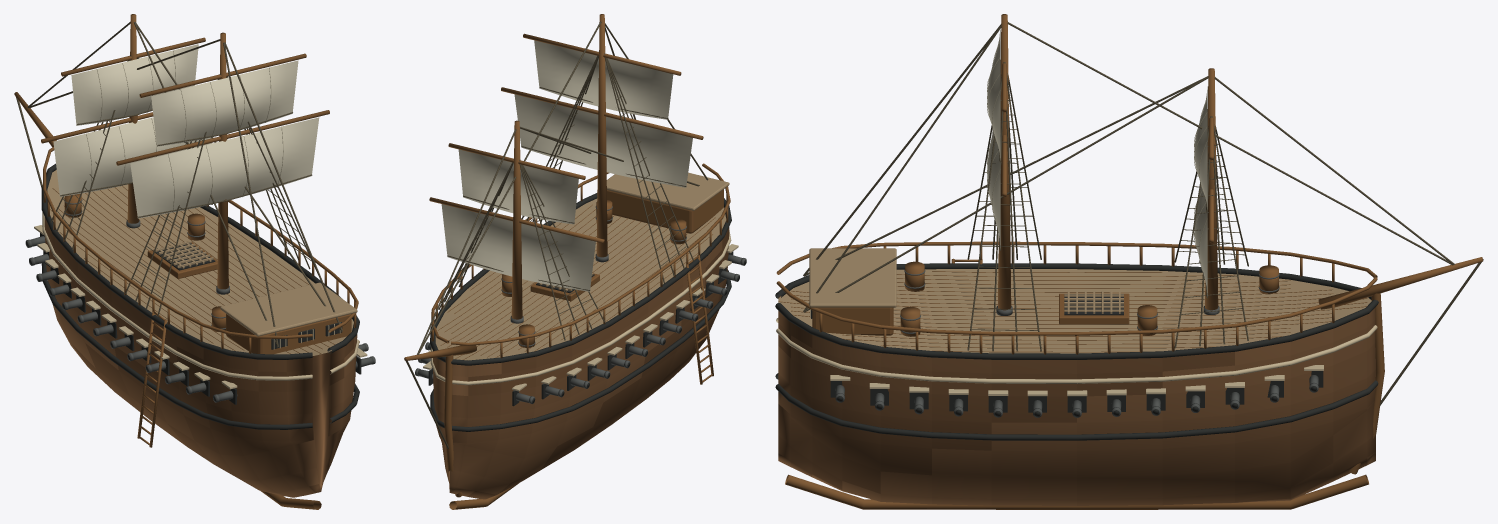
File: justine.glb
The picture shows the model from 3 angles, left to right: view 1: azimuth 30°, elevation 25°; view 2: azimuth 150°, elevation 25°; view 3: azimuth 270°, elevation 25°; orthographic projection. The views are drawn at different scales.
Visible parts, largest first — view 1: justine_geometry; view 2: justine_geometry; view 3: justine_geometry.
Part boxes in pixels (x1=…): justine_geometry: x1=14, y1=14, x2=375, y2=509; justine_geometry: x1=404, y1=14, x2=746, y2=509; justine_geometry: x1=775, y1=14, x2=1483, y2=509.
Size of the model in its own units: 6.61 by 12.78 by 16.6.
